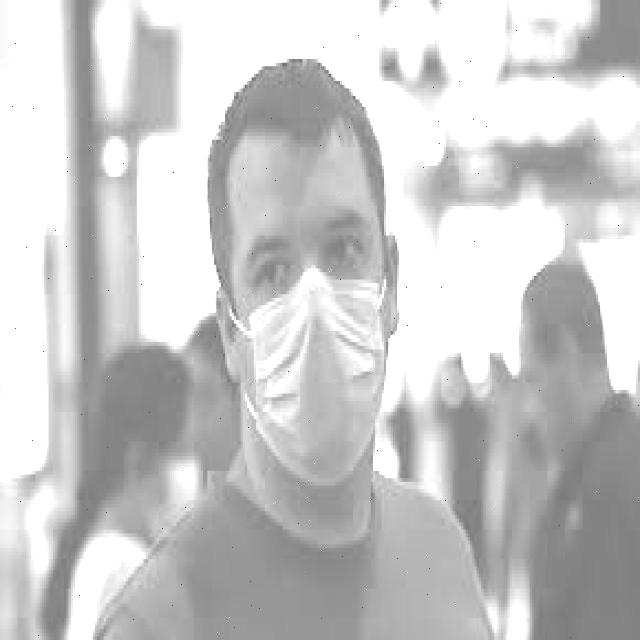fake: (237, 270, 391, 487)
real: (216, 126, 396, 495)
